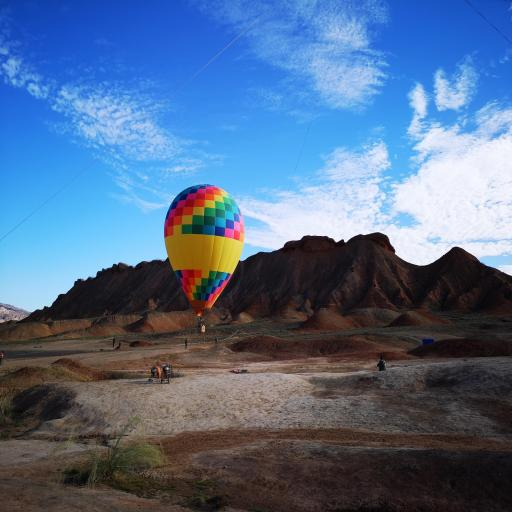hot air ballon: (164, 184, 245, 333)
